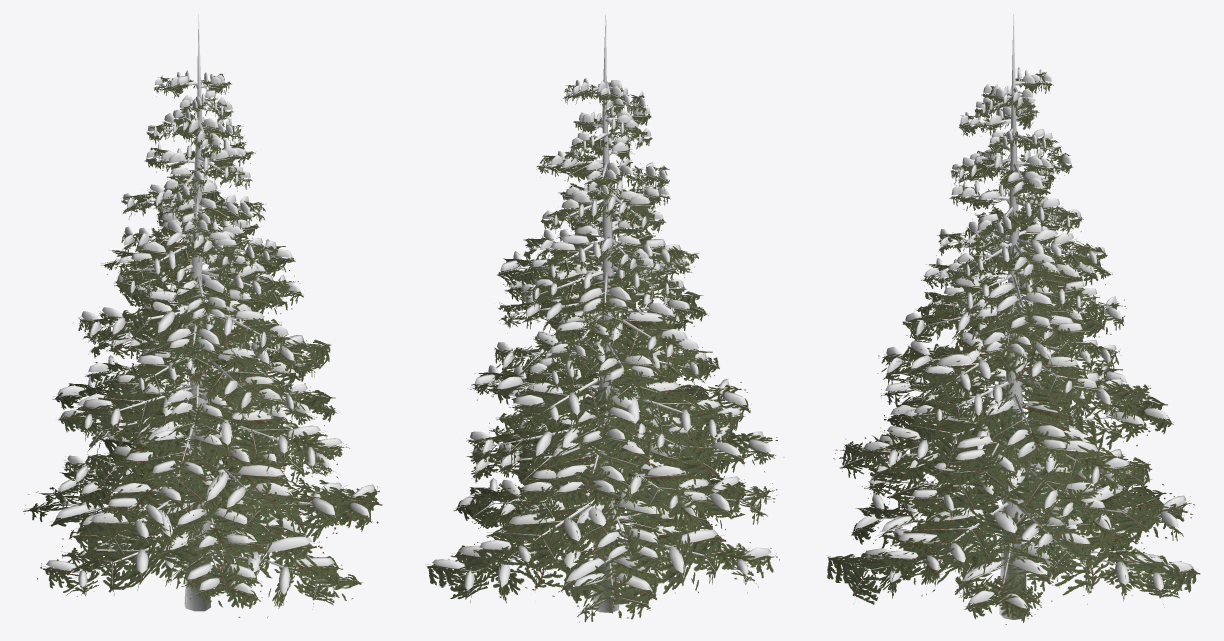
The model's file is CW_FirVolume_2.fbx.
3 views of the same model, side by side, from view 1: azimuth 30°, elevation 25°; view 2: azimuth 150°, elevation 25°; view 3: azimuth 270°, elevation 25° (orthographic).
Parts seen in each view (by area): view 1: CW_FirVolume_2_Needles, CW_FirVolume_2_Snow, CW_FirVolume_2_Wood; view 2: CW_FirVolume_2_Needles, CW_FirVolume_2_Snow, CW_FirVolume_2_Wood; view 3: CW_FirVolume_2_Needles, CW_FirVolume_2_Snow, CW_FirVolume_2_Wood.
Part boxes in pixels (left/top/right/bottom): CW_FirVolume_2_Needles: left=23, top=73, right=382, bottom=617; CW_FirVolume_2_Snow: left=46, top=70, right=374, bottom=594; CW_FirVolume_2_Wood: left=24, top=14, right=379, bottom=611; CW_FirVolume_2_Needles: left=426, top=82, right=784, bottom=622; CW_FirVolume_2_Snow: left=432, top=78, right=771, bottom=590; CW_FirVolume_2_Wood: left=425, top=14, right=776, bottom=612; CW_FirVolume_2_Needles: left=827, top=72, right=1200, bottom=624; CW_FirVolume_2_Snow: left=855, top=67, right=1193, bottom=608; CW_FirVolume_2_Wood: left=827, top=14, right=1198, bottom=619.
Bounding box in the file's own units: 5.03 × 9 × 5.34.
